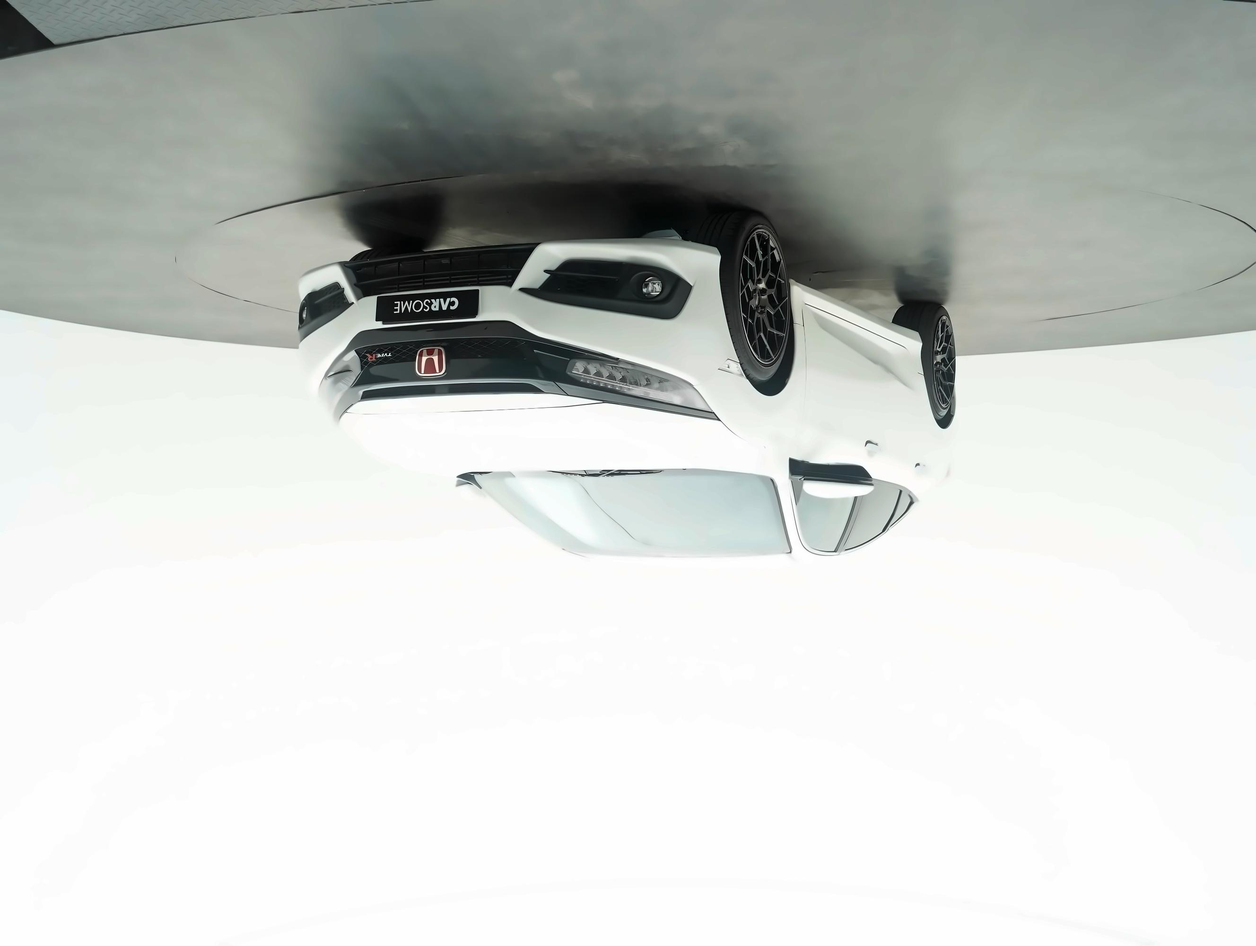Car hood: (328, 391, 780, 482)
Driver-s door - -F-R-: (782, 257, 884, 578)
Front bumper: (291, 232, 736, 374)
Headlight - -L-: (312, 339, 364, 439)
Headlight - -R-: (535, 341, 724, 421)
Passenger-s door - -R-R-: (840, 279, 919, 582)
Side bumper - -R-: (793, 270, 923, 377)
Side mirror - -R-: (785, 453, 874, 505)
